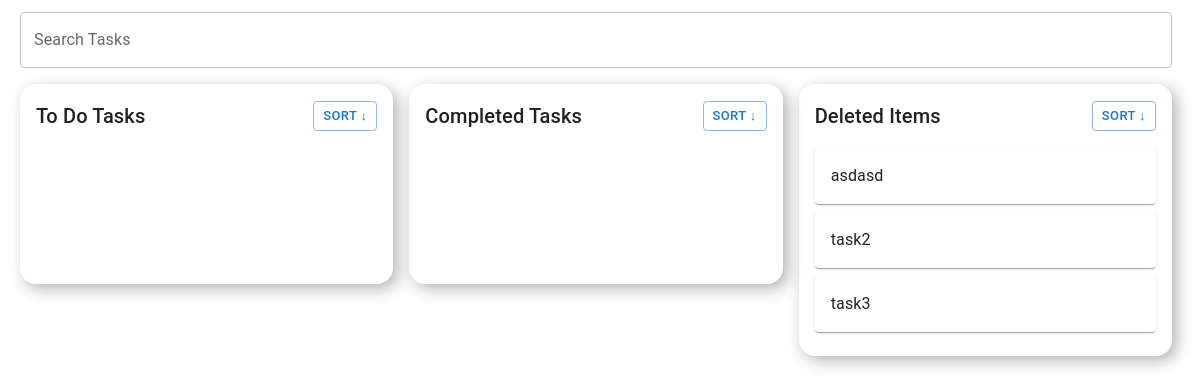
Test: TaskManager › should filter tasks based on search query
Expected: the text "asdasd" is shown, left=831, top=164, right=884, bottom=188
Expected: the text "task2" is shown, left=831, top=228, right=871, bottom=252
// Simulate typing in the search bar with a query
Type "task2" into the field labelled "Search Tasks" at (596, 40), box left=20, top=12, right=1172, bottom=68
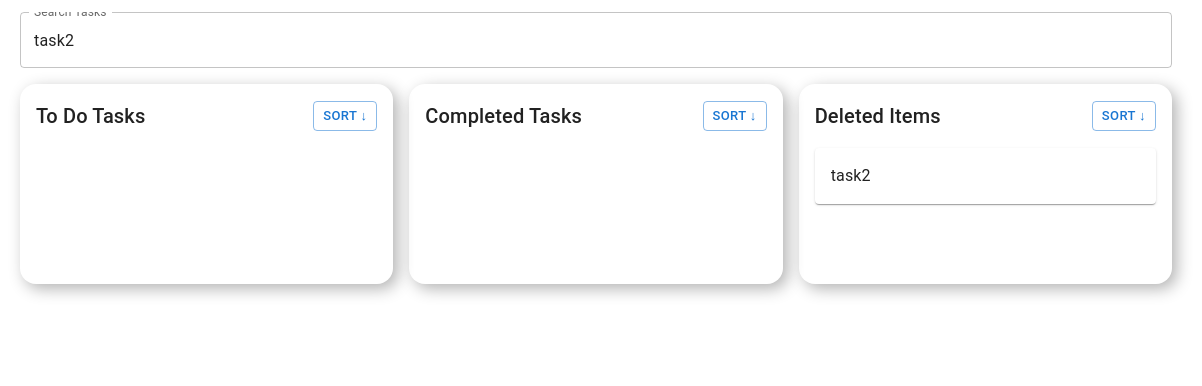
Expected: the text "task2" is shown, left=831, top=164, right=871, bottom=188
Expected: the text "asdasd" is gone
